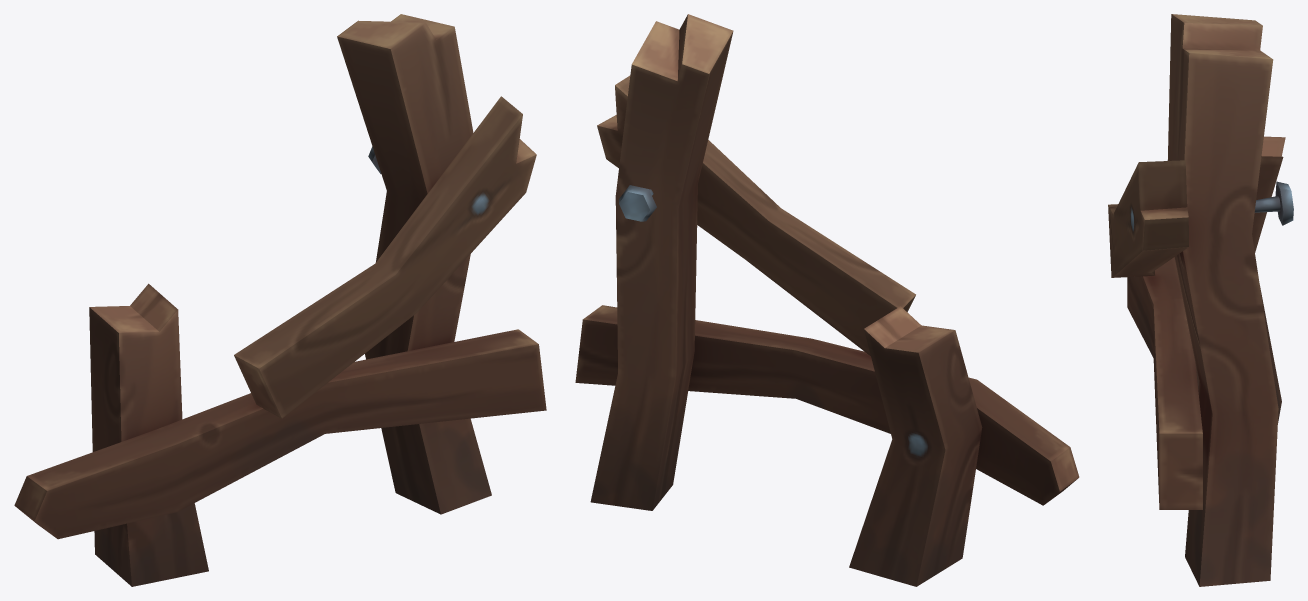
File: wooden_fence_broken02.fbx
3 renders of one model, left to right at view 1: azimuth 30°, elevation 25°; view 2: azimuth 150°, elevation 25°; view 3: azimuth 270°, elevation 25°, orthographic. The views are drawn at different scales.
Visible parts, largest first — view 1: wooden_fence_broken02; view 2: wooden_fence_broken02; view 3: wooden_fence_broken02.
Part boxes in pixels (box(x1,y1,x2,y2)): wooden_fence_broken02: box(14, 14, 546, 586); wooden_fence_broken02: box(575, 14, 1079, 586); wooden_fence_broken02: box(1108, 14, 1293, 586).
Size of the model in its own units: 172 by 160 by 51.28.
